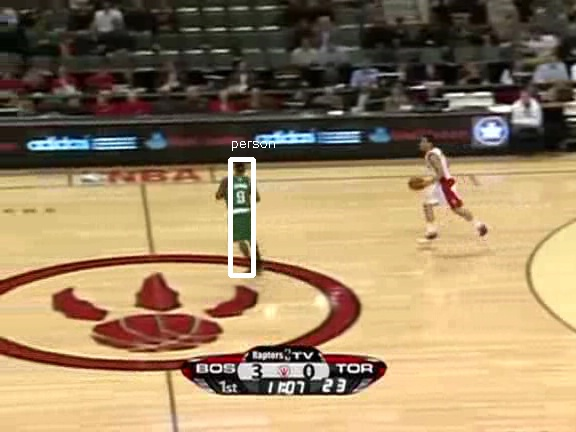person: (224, 165, 258, 246), (223, 165, 257, 246), (225, 165, 259, 246), (224, 164, 258, 245), (224, 166, 258, 247)
target_negative: (174, 174, 546, 347), (259, 325, 514, 389), (432, 337, 540, 404), (501, 376, 548, 419), (394, 426, 411, 431), (422, 227, 435, 232)
